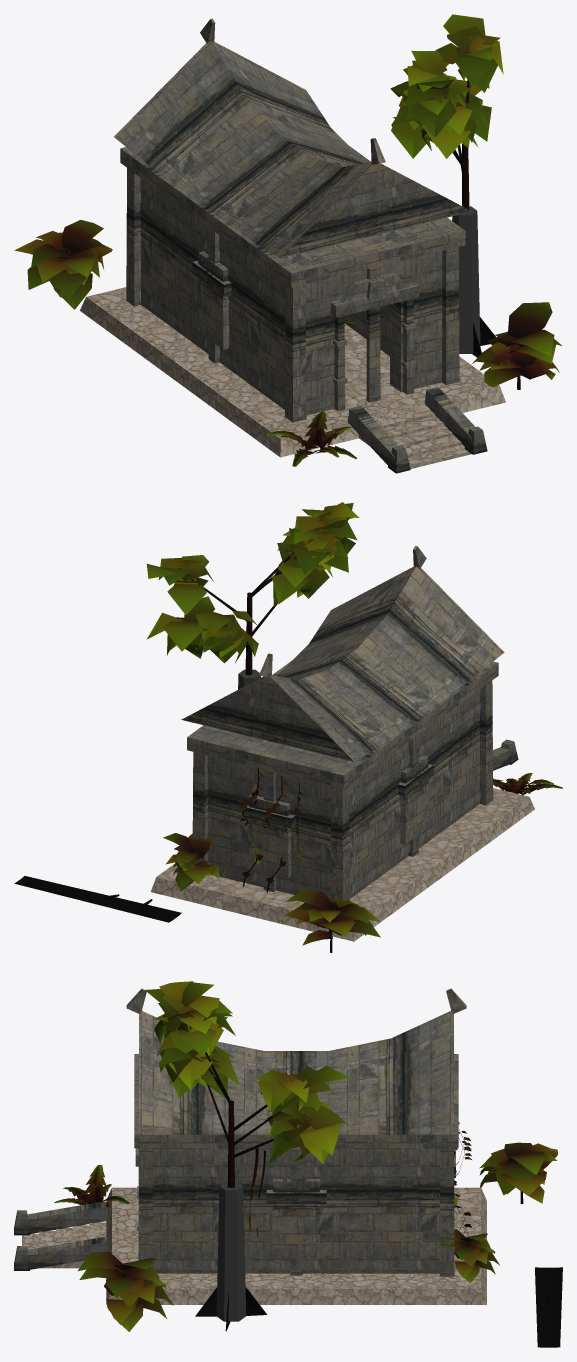
Rendered from prasat_ruin_06.glb.
3 views of the same model, one above another, from view 1: azimuth 30°, elevation 25°; view 2: azimuth 150°, elevation 25°; view 3: azimuth 270°, elevation 25° (orthographic). The views are drawn at different scales.
Parts seen in each view (by area): view 1: prasat_ruin_06, prasat_ruin_06_veg_00_broadleaf_b, prasat_ruin_06_veg_09_bush_c, prasat_ruin_06_veg_07_bush_b, prasat_ruin_06-col, prasat_ruin_06_veg_08_fern_a; view 2: prasat_ruin_06, prasat_ruin_06_veg_00_broadleaf_b, prasat_ruin_06_veg_09_bush_c, prasat_ruin_06_veg_13_fallen_log_b, prasat_ruin_06_veg_12_bush_b, prasat_ruin_06_veg_08_fern_a; view 3: prasat_ruin_06, prasat_ruin_06_veg_00_broadleaf_b, prasat_ruin_06_veg_07_bush_b, prasat_ruin_06-col, prasat_ruin_06_veg_09_bush_c, prasat_ruin_06_veg_13_fallen_log_b, prasat_ruin_06_veg_12_bush_b, prasat_ruin_06_veg_08_fern_a.
Boxes of the visible parts, x1,y1,x2,y2 form: prasat_ruin_06: (80,18,505,473); prasat_ruin_06_veg_00_broadleaf_b: (390,14,503,357); prasat_ruin_06_veg_09_bush_c: (14,220,112,309); prasat_ruin_06_veg_07_bush_b: (471,302,561,389); prasat_ruin_06-col: (452,206,480,353); prasat_ruin_06_veg_08_fern_a: (266,411,356,466); prasat_ruin_06: (150,546,534,941); prasat_ruin_06_veg_00_broadleaf_b: (146,502,359,675); prasat_ruin_06_veg_09_bush_c: (284,889,380,952); prasat_ruin_06_veg_13_fallen_log_b: (14,876,181,922); prasat_ruin_06_veg_12_bush_b: (163,833,220,891); prasat_ruin_06_veg_08_fern_a: (493,773,562,795); prasat_ruin_06: (14,988,486,1304); prasat_ruin_06_veg_00_broadleaf_b: (145,981,350,1331); prasat_ruin_06_veg_07_bush_b: (78,1251,173,1331); prasat_ruin_06-col: (216,1181,246,1321); prasat_ruin_06_veg_09_bush_c: (479,1142,557,1203); prasat_ruin_06_veg_13_fallen_log_b: (535,1267,562,1347); prasat_ruin_06_veg_12_bush_b: (436,1229,499,1282); prasat_ruin_06_veg_08_fern_a: (54,1165,129,1207).
Size of the model in its own units: 8.86 by 7.22 by 11.72.
Materials: 14 (14 with a texture image).
